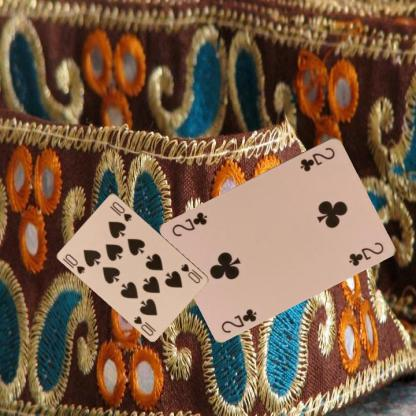10s: (62, 251, 87, 276), (178, 261, 204, 285)
2c: (218, 306, 258, 334), (298, 144, 336, 173)
